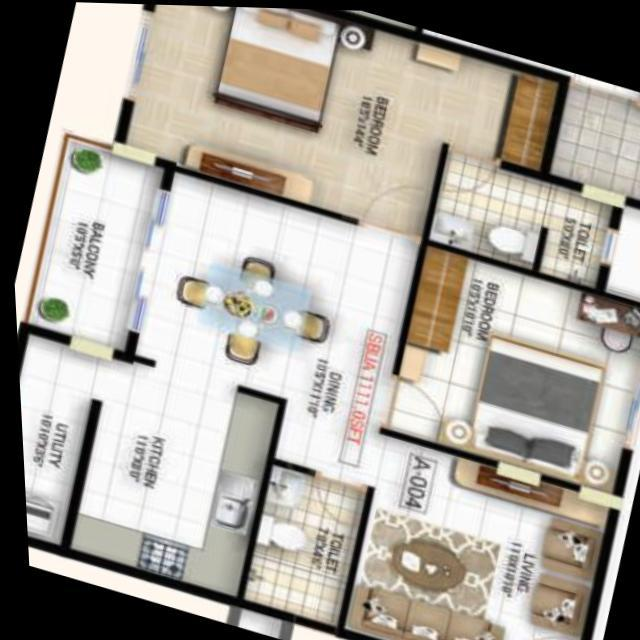Balcony-Sitout: (18, 127, 176, 368)
Bedroom: (373, 235, 640, 498)
Bedroom with Toilet: (111, 3, 623, 294)
Dining: (156, 233, 338, 386)
Kitchen: (53, 346, 280, 607)
Living: (328, 424, 616, 640)
Toilet: (413, 141, 623, 296), (223, 453, 366, 634)
Utility: (13, 320, 107, 557)
